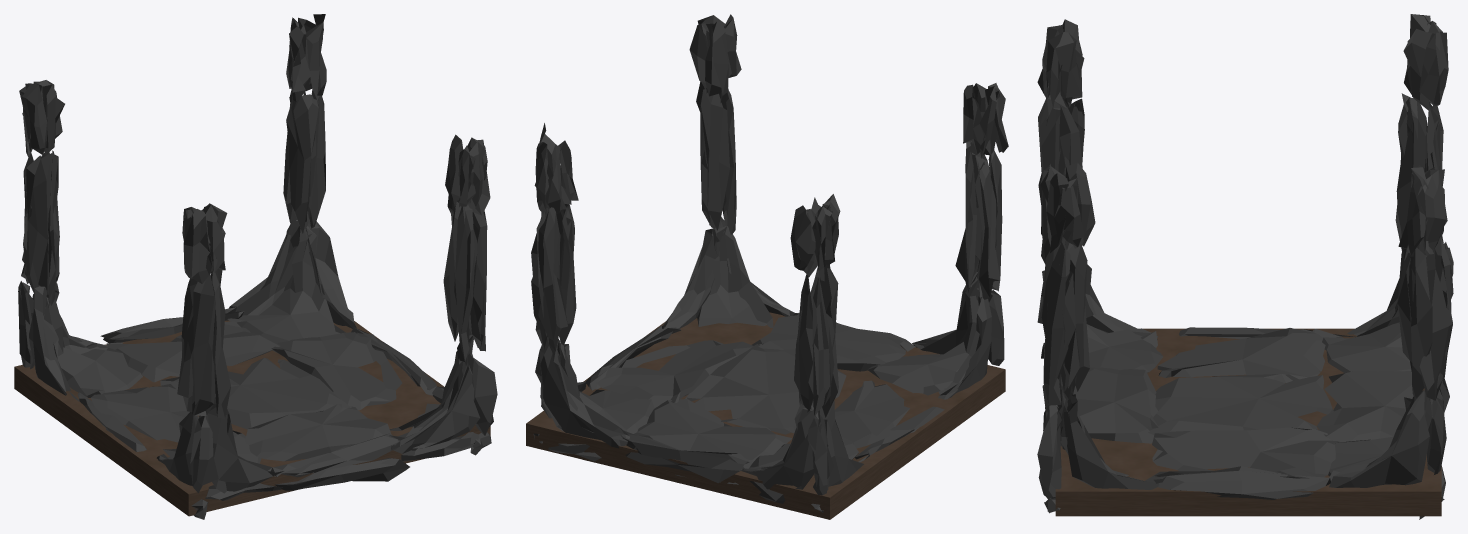
Rendered from Cross.fbx.
The picture shows the model from 3 angles, left to right: view 1: azimuth 30°, elevation 25°; view 2: azimuth 150°, elevation 25°; view 3: azimuth 270°, elevation 25°; orthographic projection. The views are drawn at different scales.
Parts seen in each view (by area): view 1: Cross_Stone_Path, Dirt_Cross; view 2: Cross_Stone_Path, Dirt_Cross; view 3: Cross_Stone_Path, Dirt_Cross.
Part boxes in pixels (<box>): Cross_Stone_Path: <box>18,14,497,519</box>; Dirt_Cross: <box>14,320,490,516</box>; Cross_Stone_Path: <box>531,14,1008,512</box>; Dirt_Cross: <box>526,312,1005,519</box>; Cross_Stone_Path: <box>1037,14,1453,519</box>; Dirt_Cross: <box>1055,328,1441,516</box>.
Size of the model in its own units: 102 by 103 by 108.
